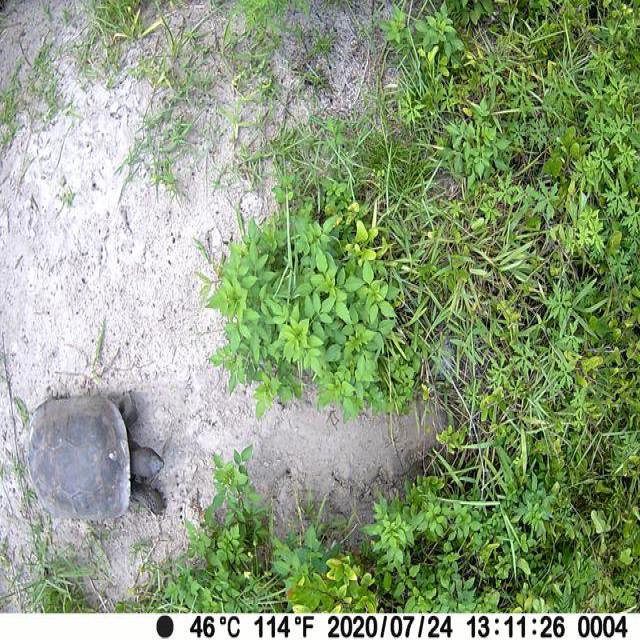tortoise: (24, 388, 166, 519)
